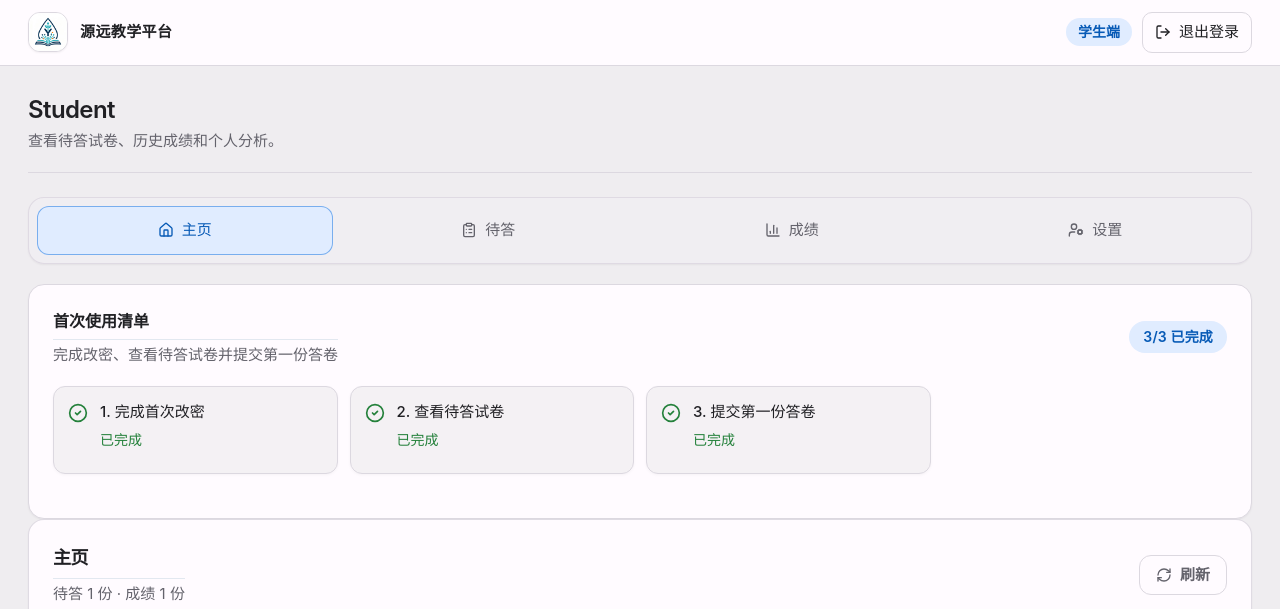
Scenario: StudentWorkspace › keeps password and username changes in separate forms
Later steps or results of the test are not shown.
Check: the button with test id "student-page-home" is shown, box [37,206,332,254]
Click the button with test id "student-page-account": point(1095, 230) [948,206,1243,254]
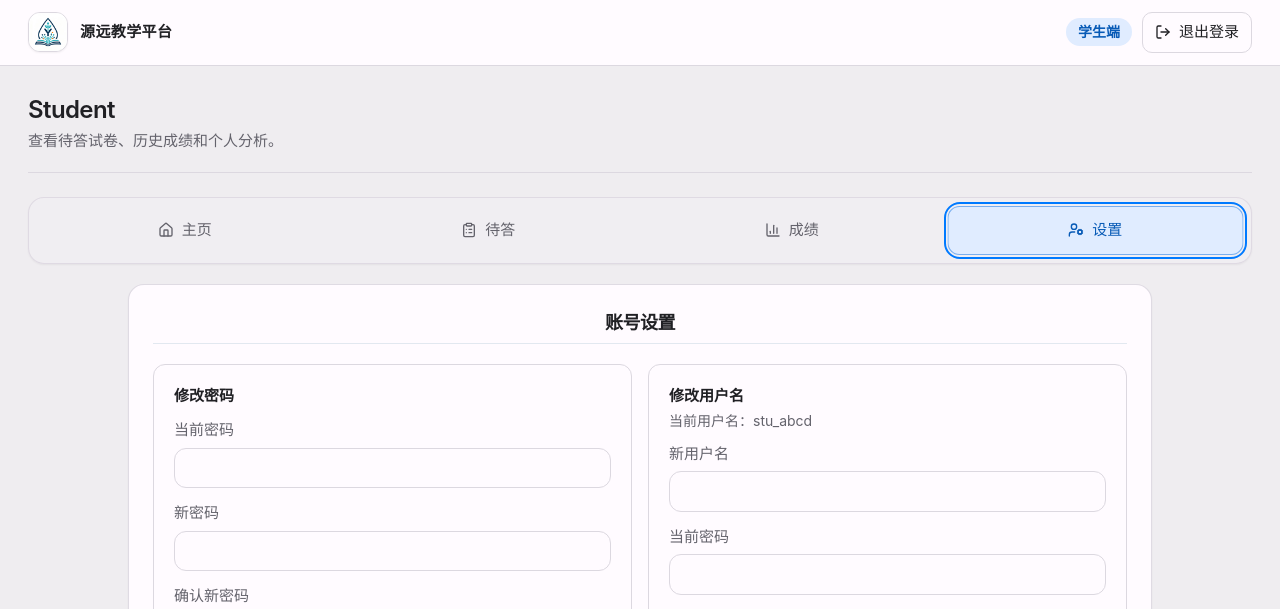
Check: the field labelled "新用户名" is shown, box [669,471,1106,512]
